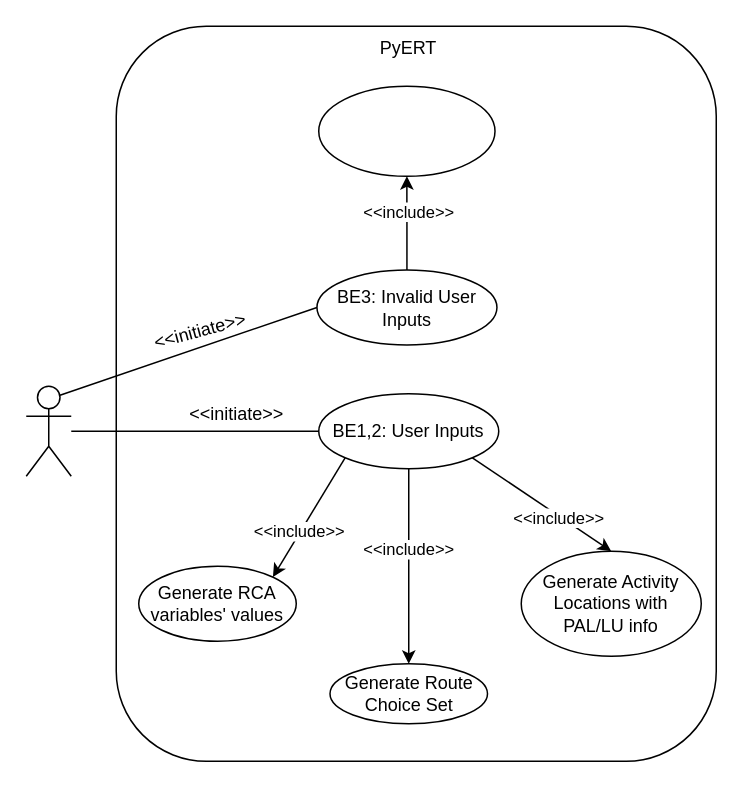
The diagram is 743 pixels wide and 788 high, and some of its shapes have lost their labels. The shapes that lost their labels are listed below. From the top down, each one's box as (x1, y1, x2, y2) in pixels, then its label:
(317, 85, 495, 176): Outputs Descriptive Error Message
(25, 385, 71, 476): User
